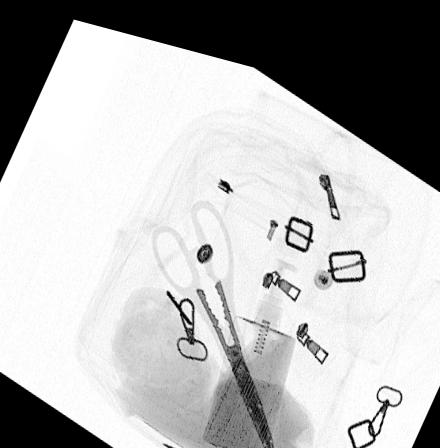Scissors: (148, 187, 274, 448)
